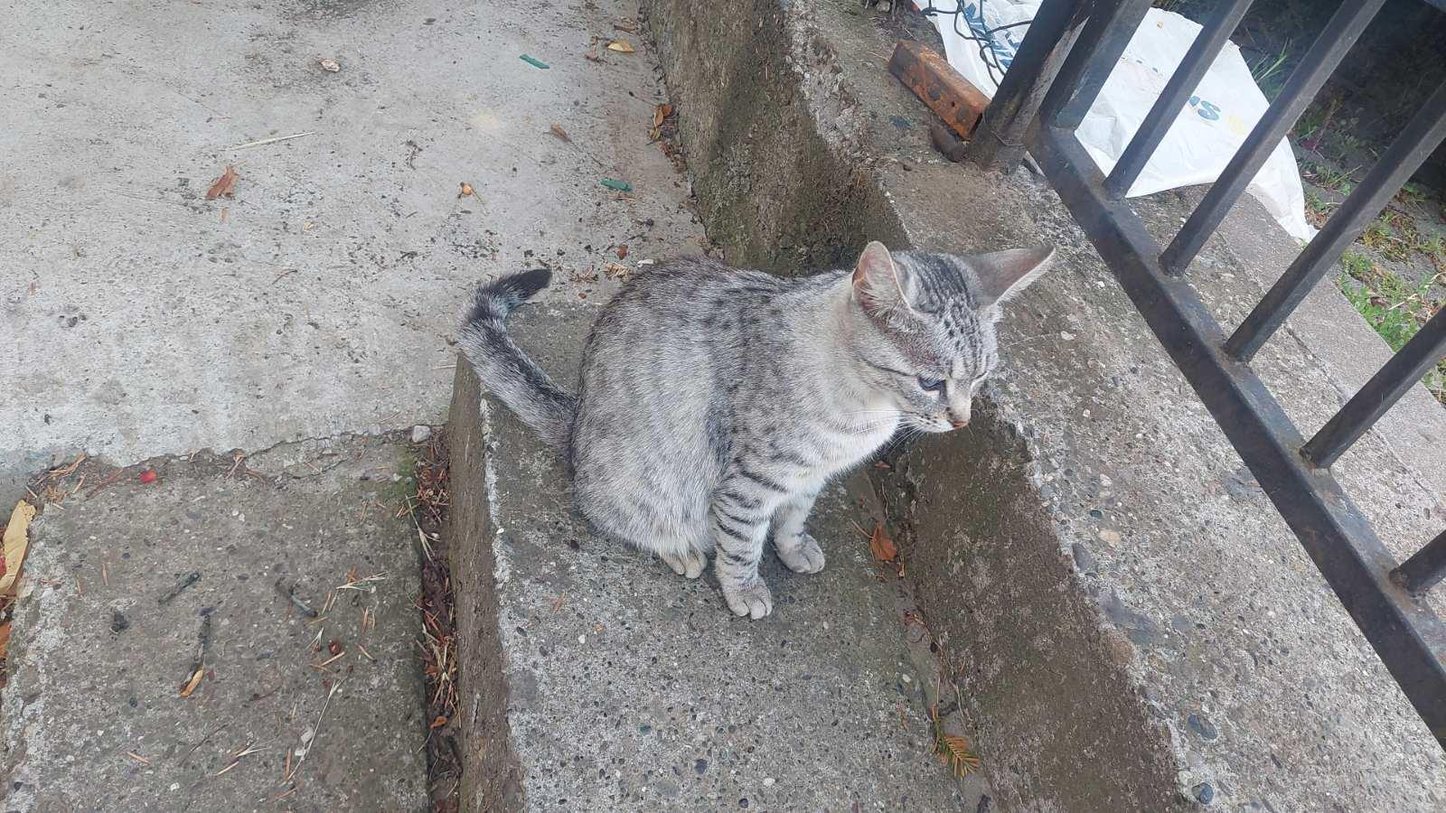macka: (452, 237, 1057, 624)
